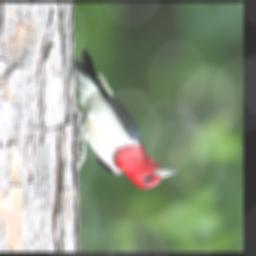Woodpecker: (68, 50, 182, 189)
